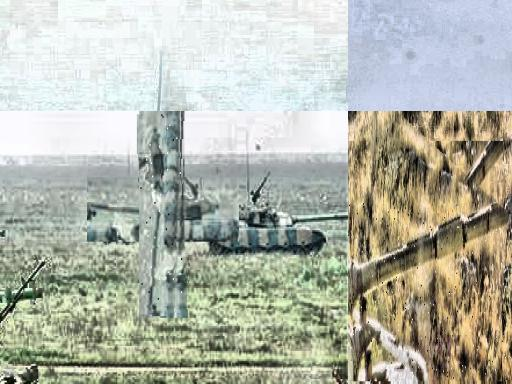tanks: (349, 205, 509, 384), (206, 180, 348, 255), (140, 112, 183, 316), (3, 372, 39, 383), (4, 289, 12, 306), (32, 281, 36, 305), (4, 232, 5, 233)
